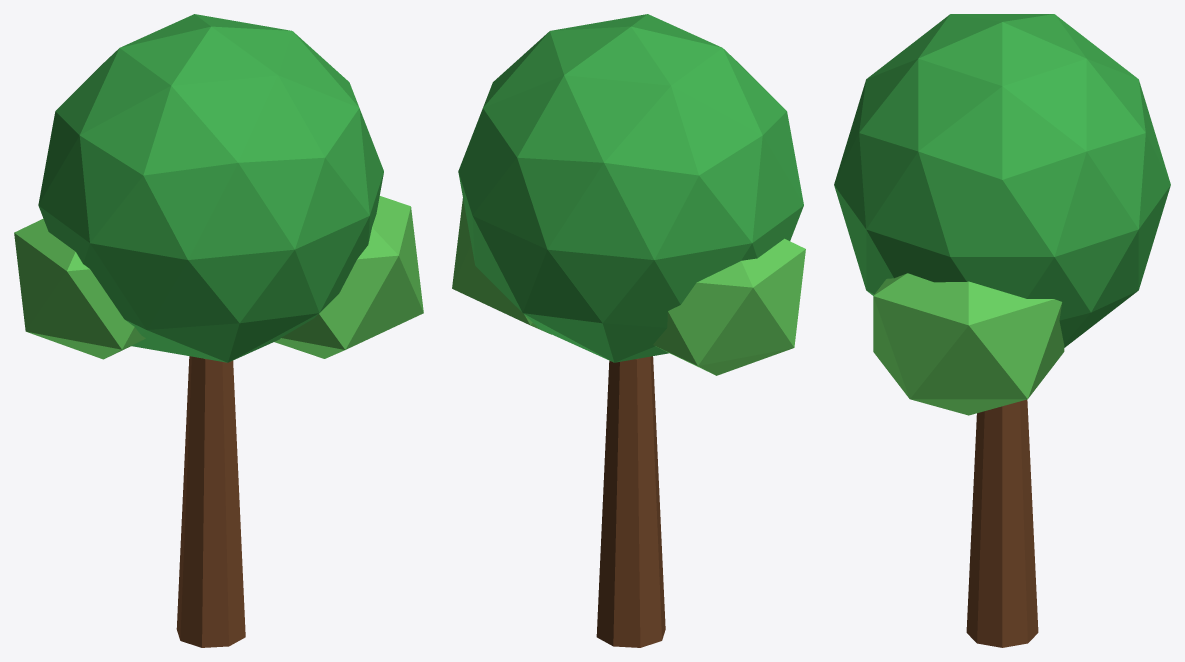
File: tree.glb
3 views of the same model, side by side, from view 1: azimuth 30°, elevation 25°; view 2: azimuth 150°, elevation 25°; view 3: azimuth 270°, elevation 25° (orthographic).
Parts seen in each view (by area): view 1: tree; view 2: tree; view 3: tree.
Boxes of the visible parts, x1,y1,x2,y2 form: tree: (14, 14, 423, 647); tree: (452, 14, 805, 647); tree: (834, 14, 1170, 647).
Size of the model in its own units: 1.85 by 3 by 1.5.
